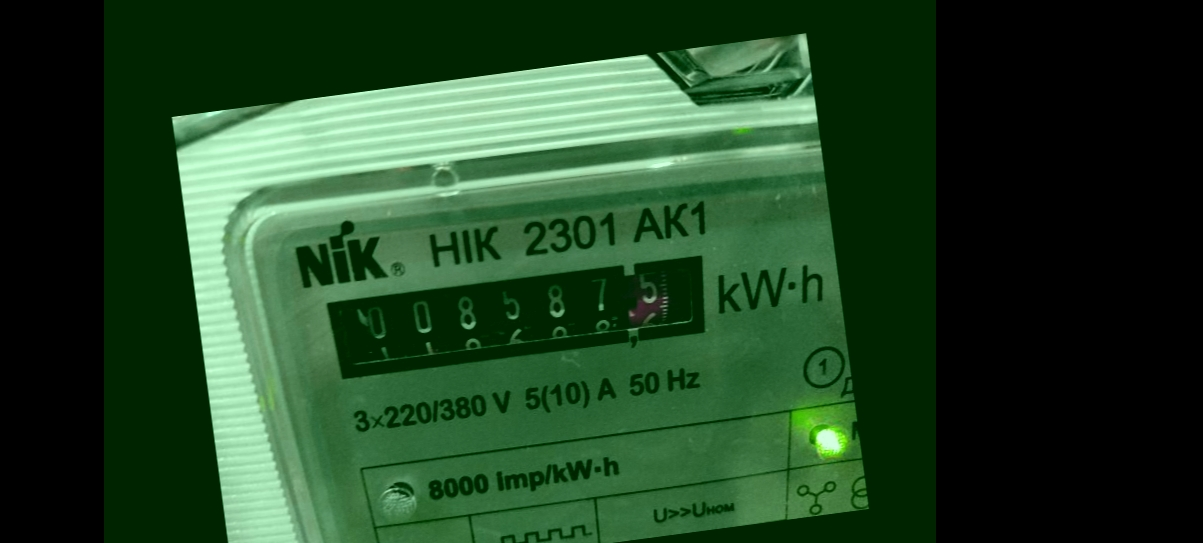0: (408, 293, 437, 336)
1: (362, 299, 391, 343)
5: (635, 264, 664, 307), (498, 282, 526, 323)
7: (586, 272, 614, 315)
8: (451, 289, 482, 333), (543, 278, 569, 321)
screen: (304, 230, 734, 403)
